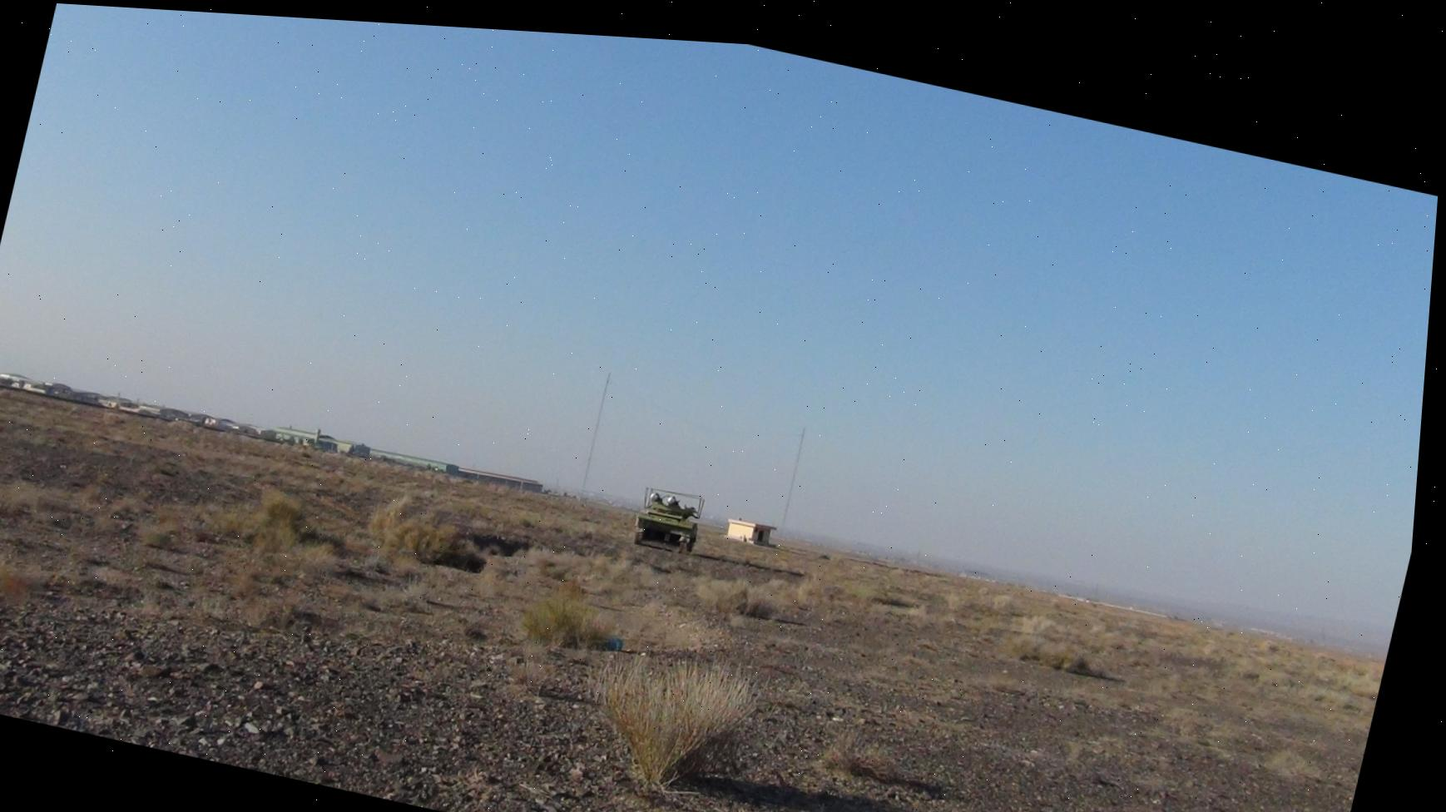armored_car: (626, 480, 711, 559)
